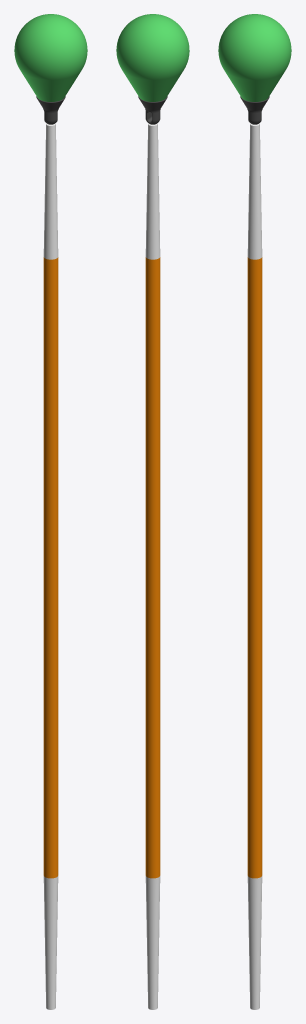
Rendered from pole-prequalif.fbx.
3 renders of one model, left to right at view 1: azimuth 90°, elevation 25°; view 2: azimuth 150°, elevation 25°; view 3: azimuth 270°, elevation 25°, orthographic.
Parts seen in each view (by area): view 1: 3DGeom-35, Body_1, 3DGeom-36, Body_2; view 2: 3DGeom-35, Body_1, 3DGeom-36, Body_2; view 3: 3DGeom-35, Body_1, 3DGeom-36, Body_2.
Part boxes in pixels (x1=…): 3DGeom-35: x1=43, y1=257, x2=58, y2=878; Body_1: x1=14, y1=14, x2=87, y2=101; 3DGeom-36: x1=43, y1=123, x2=58, y2=1009; Body_2: x1=36, y1=96, x2=65, y2=124; 3DGeom-35: x1=145, y1=257, x2=160, y2=878; Body_1: x1=116, y1=14, x2=189, y2=101; 3DGeom-36: x1=145, y1=123, x2=160, y2=1009; Body_2: x1=138, y1=96, x2=167, y2=124; 3DGeom-35: x1=247, y1=257, x2=262, y2=878; Body_1: x1=218, y1=14, x2=291, y2=101; 3DGeom-36: x1=247, y1=123, x2=262, y2=1009; Body_2: x1=240, y1=96, x2=269, y2=124.
Bounding box in the file's own units: 0.15 × 0.15 × 2.24.
